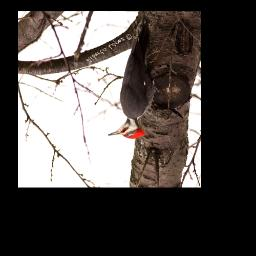Woodpecker: (105, 19, 158, 139)
